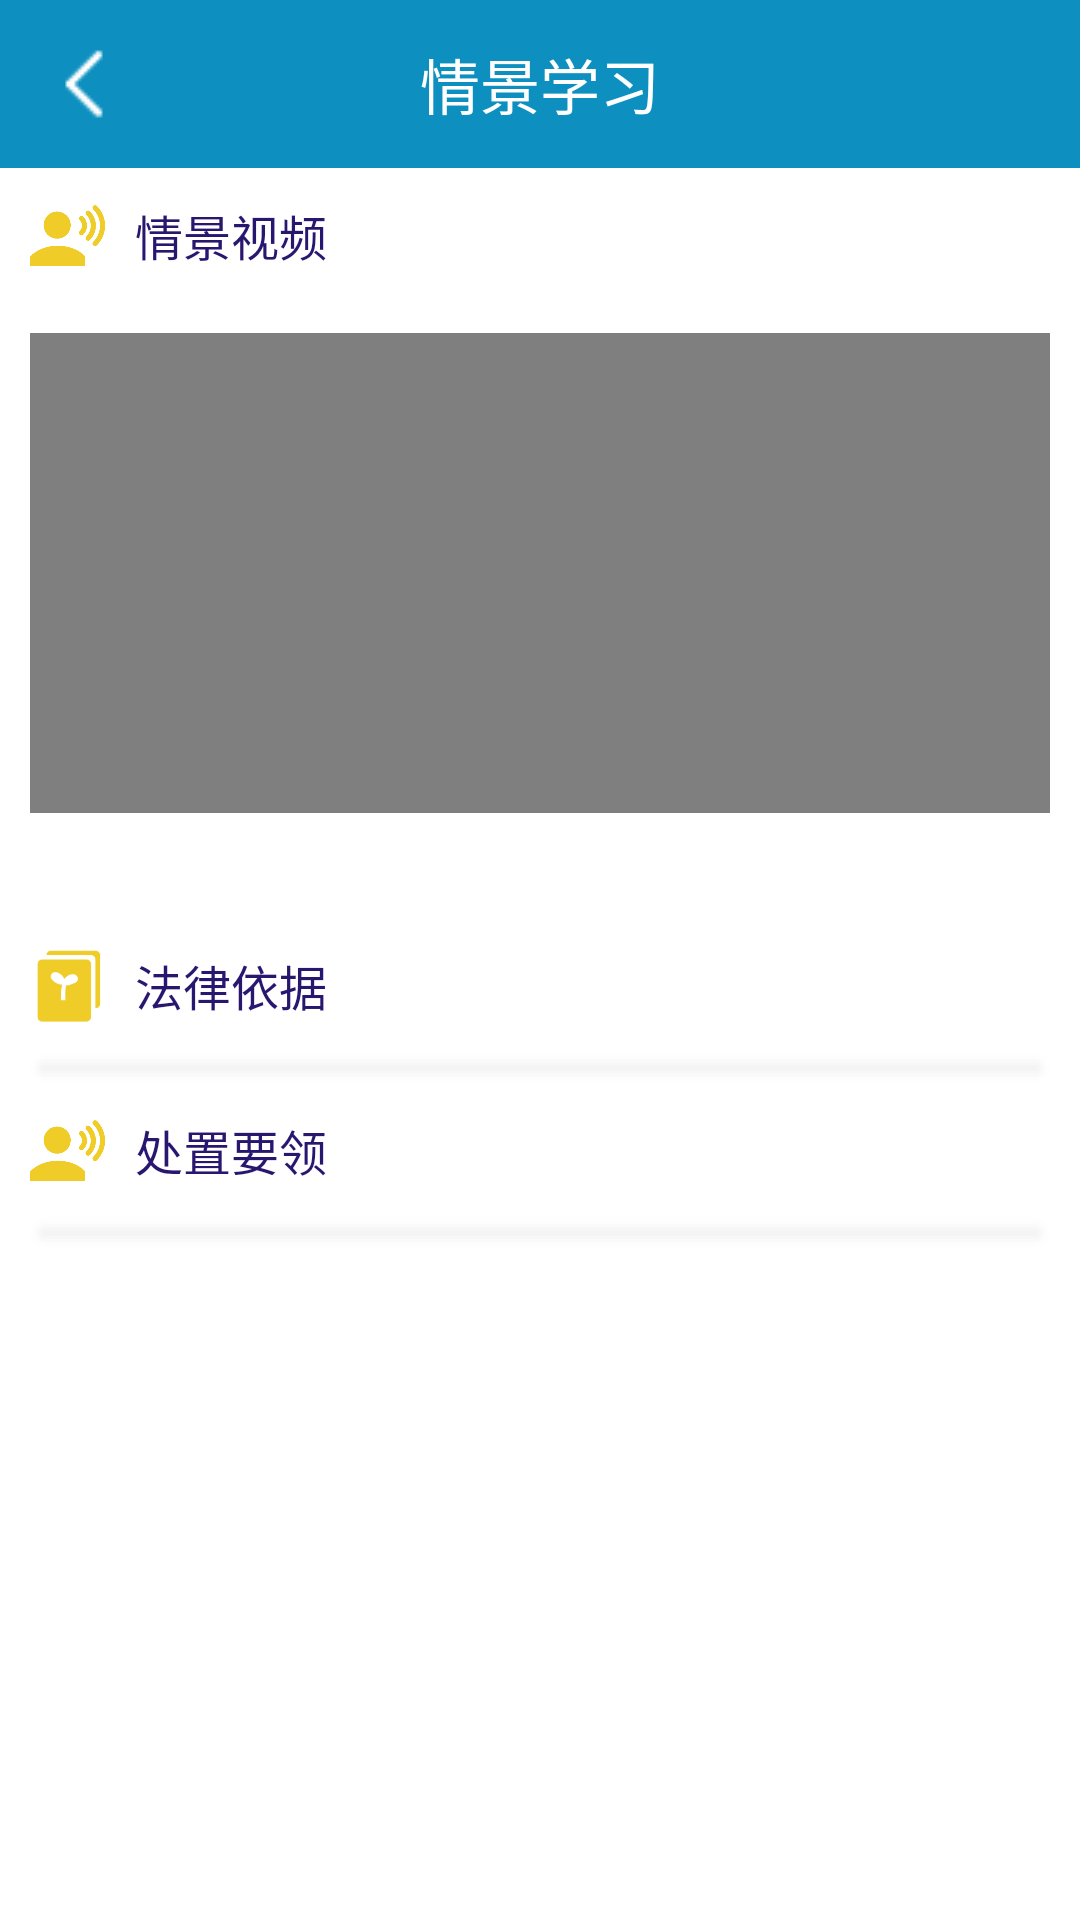

Where to tap for icons on this 1080 x 1920 app screen, as (x=x, y=y):
yuyin: (x=67, y=235), (x=67, y=1150)
zhengce: (x=69, y=986)
